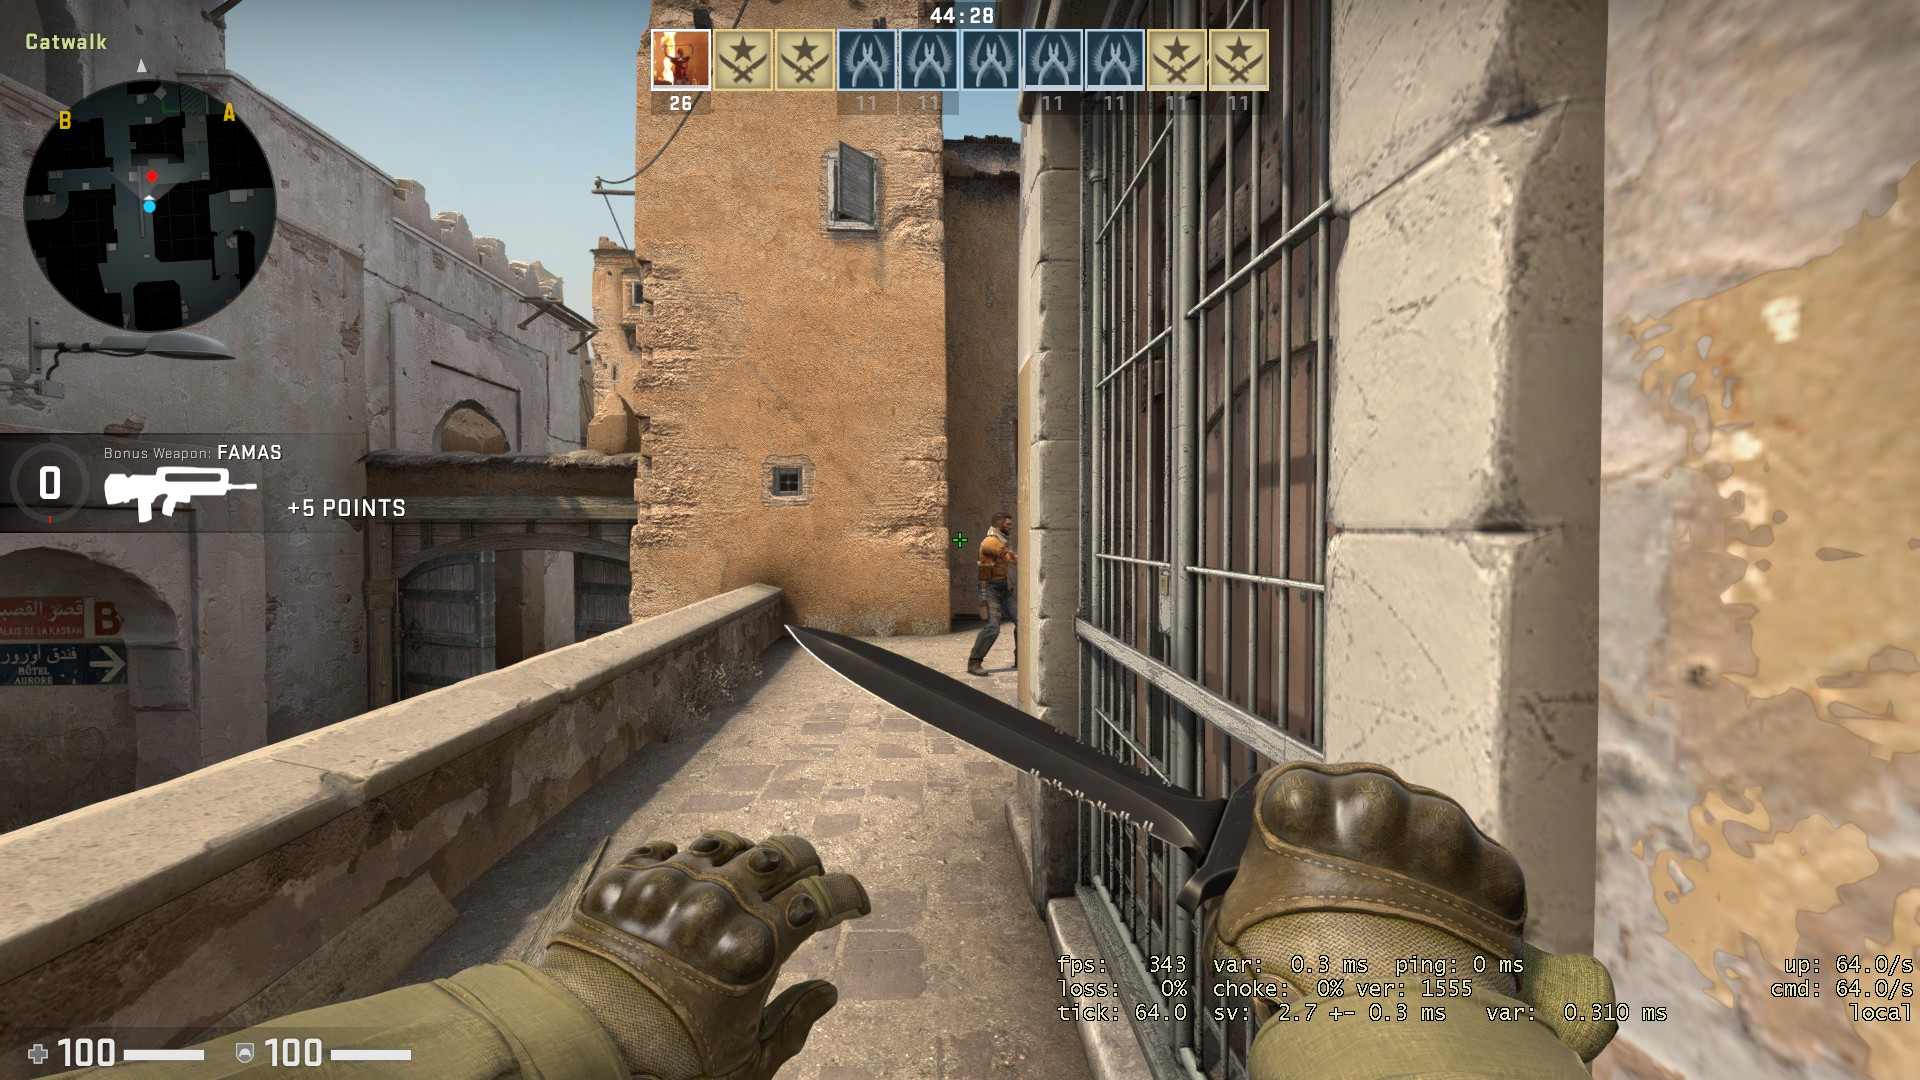player: (965, 511, 1018, 676)
